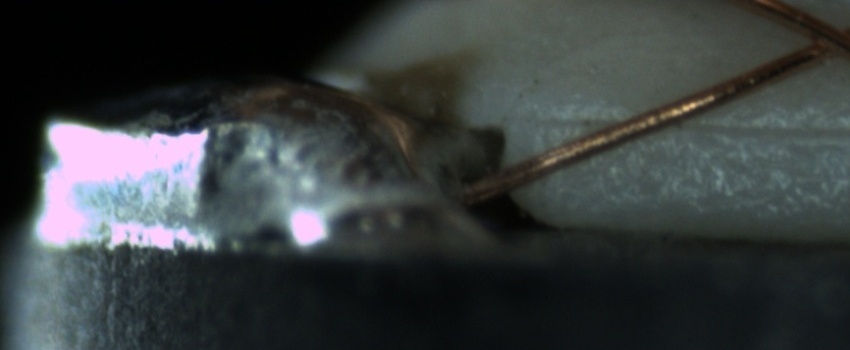CL: (781, 8, 848, 65)
DL: (530, 95, 850, 154)
